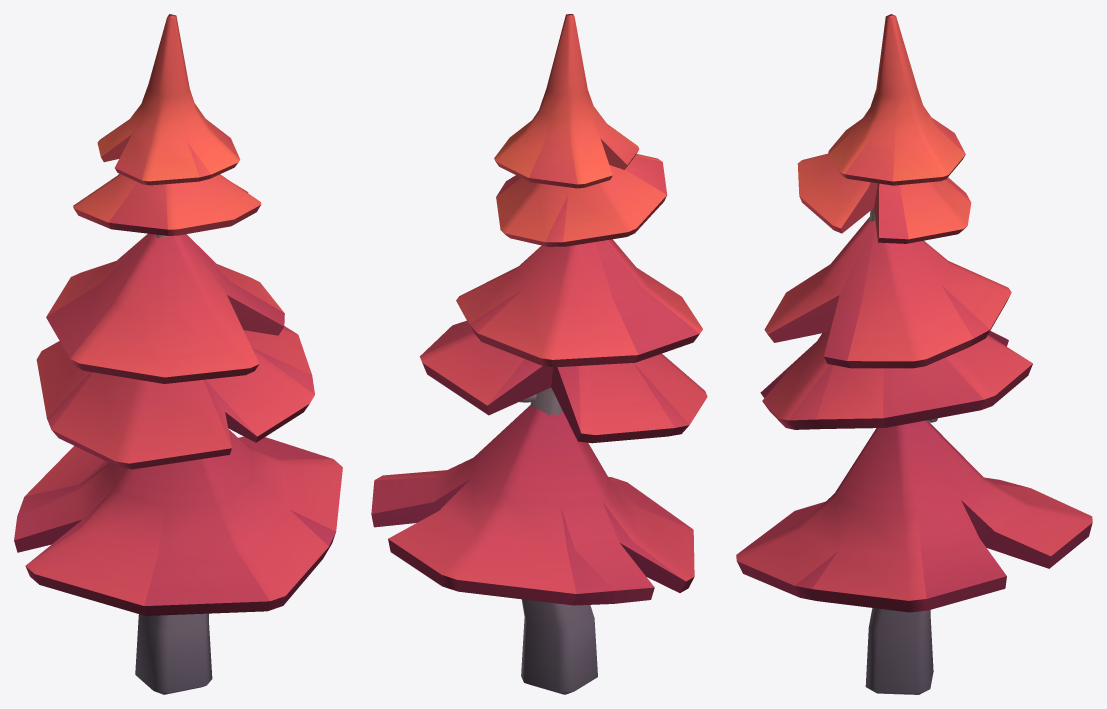
The model's file is tree_pine_e.glb.
3 views of the same model, side by side, from view 1: azimuth 30°, elevation 25°; view 2: azimuth 150°, elevation 25°; view 3: azimuth 270°, elevation 25° (orthographic).
Visible parts, largest first — view 1: tree_pine_SC_04; view 2: tree_pine_SC_04; view 3: tree_pine_SC_04.
Part boxes in pixels (x1,y1,x2,y2): tree_pine_SC_04: (14, 14, 342, 694); tree_pine_SC_04: (371, 14, 707, 694); tree_pine_SC_04: (736, 14, 1092, 694).
Size of the model in its own units: 527 by 1086 by 526.
Materials: 1 (1 with a texture image).
